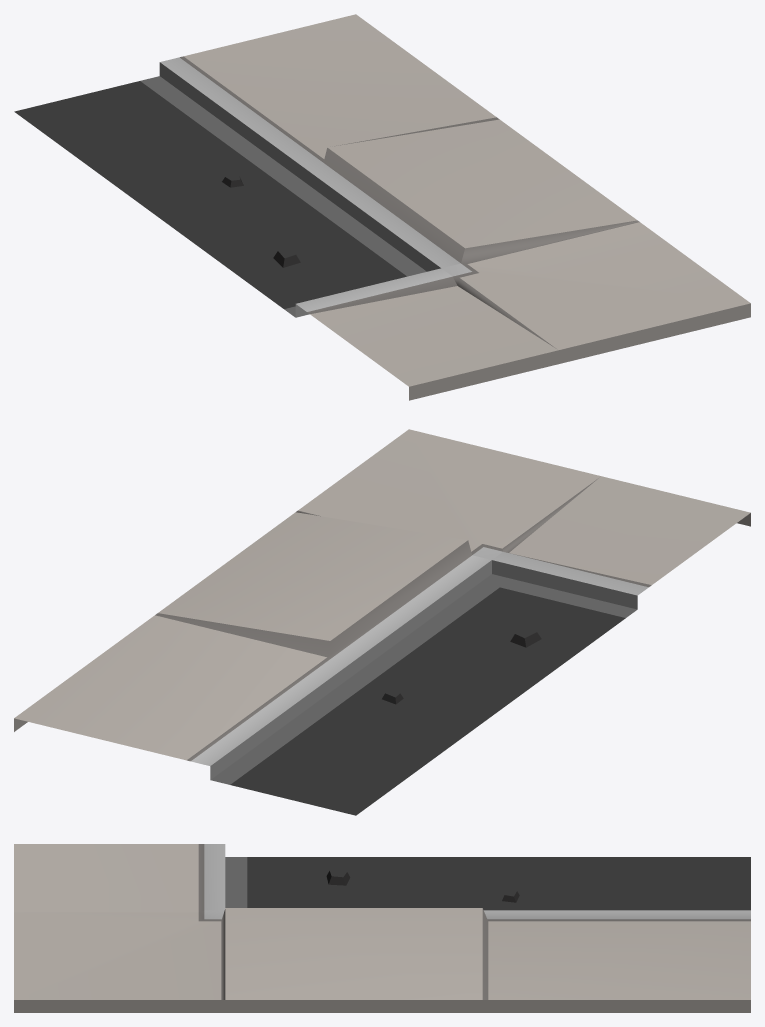
Rendered from SA_Env_Road_Bend_Left_Damaged_01.gltf.
The picture shows the model from 3 angles, top to bottom: view 1: azimuth 30°, elevation 25°; view 2: azimuth 150°, elevation 25°; view 3: azimuth 270°, elevation 25°; orthographic projection. The views are drawn at different scales.
Visible parts, largest first — view 1: SA_Env_Road_Bend_Left_Damaged_01; view 2: SA_Env_Road_Bend_Left_Damaged_01; view 3: SA_Env_Road_Bend_Left_Damaged_01.
Part boxes in pixels (x1=…): SA_Env_Road_Bend_Left_Damaged_01: x1=14, y1=14, x2=750, y2=400; SA_Env_Road_Bend_Left_Damaged_01: x1=14, y1=429, x2=750, y2=815; SA_Env_Road_Bend_Left_Damaged_01: x1=14, y1=844, x2=750, y2=1012.
Bounding box in the file's own units: 5 × 0.3961 × 10.
1 material, 1 textured.
